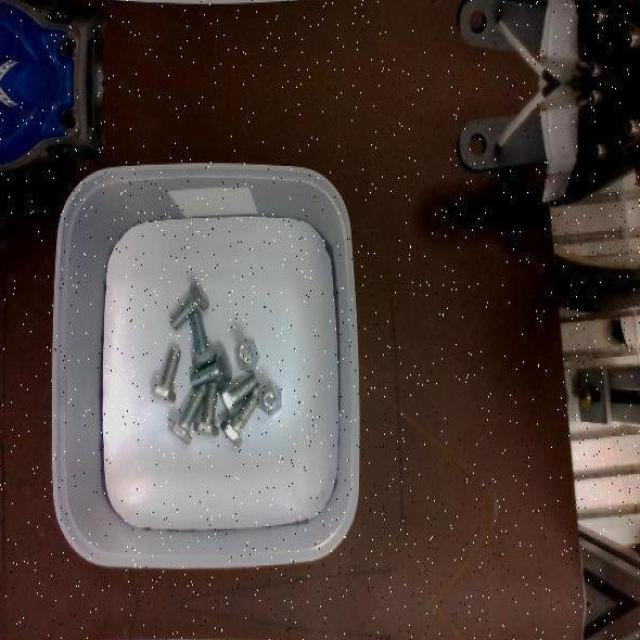screw: (168, 388, 206, 443), (220, 394, 259, 447), (170, 280, 210, 329), (219, 372, 260, 417), (190, 348, 232, 389), (150, 347, 181, 402), (189, 313, 216, 370), (194, 382, 220, 436), (236, 339, 262, 372), (259, 382, 282, 416)
